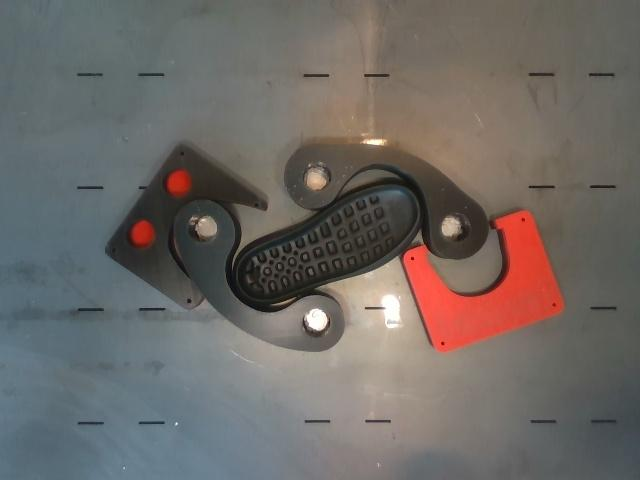shoes: (237, 185, 420, 301)
